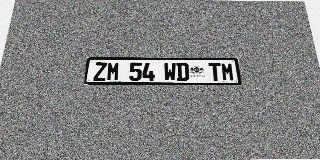plate: (84, 57, 242, 85)
